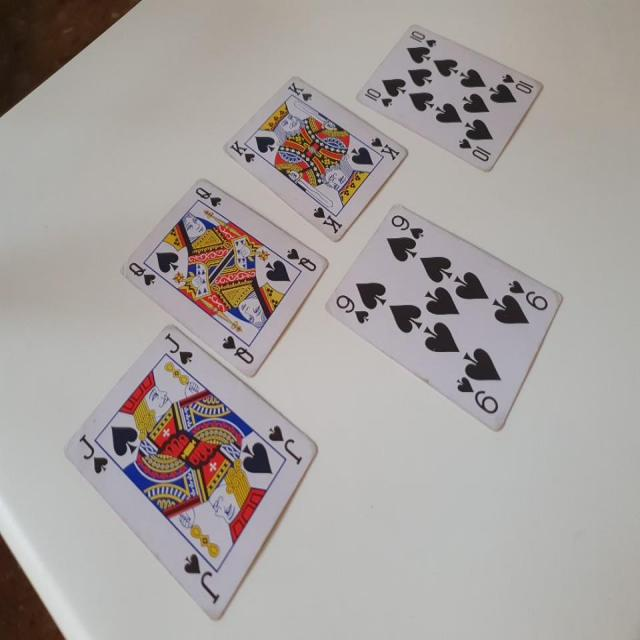10 Spades: (353, 17, 549, 182)
9 Spades: (314, 201, 566, 446)
J Spades: (57, 322, 325, 628)
K Spades: (221, 71, 413, 240)
Q Spades: (119, 174, 330, 387)
